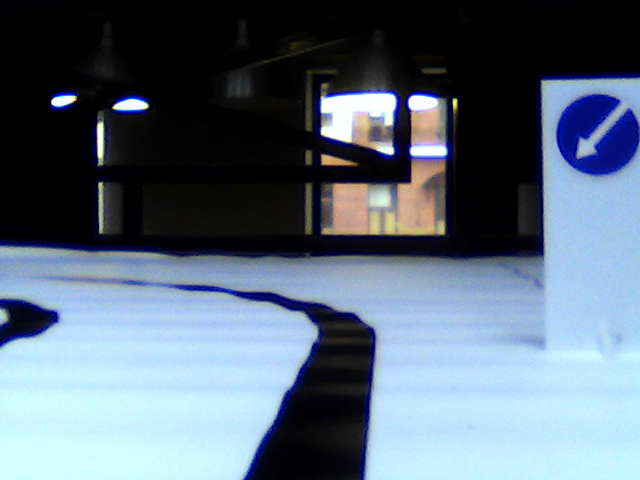prep: (553, 91, 639, 179)
